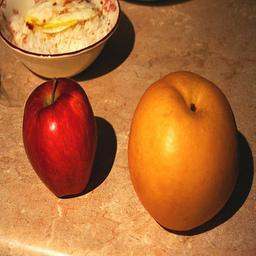apple: (128, 70, 239, 230), (21, 81, 97, 196)
